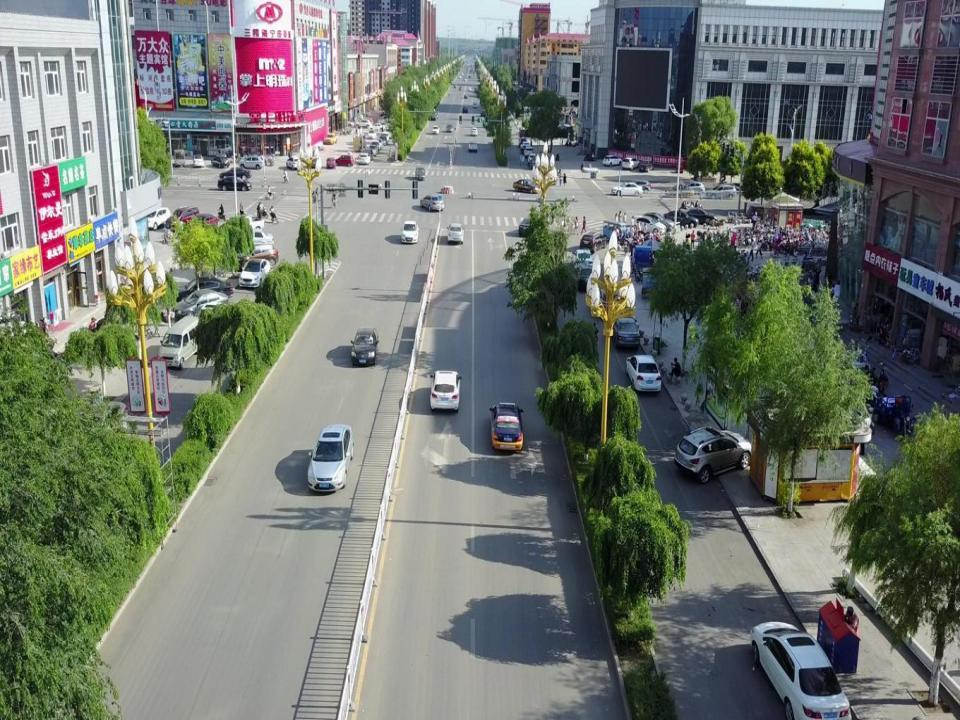car: (747, 621, 855, 720), (674, 425, 755, 481), (307, 423, 354, 492), (158, 316, 205, 369), (165, 289, 229, 324), (170, 276, 233, 308), (487, 403, 526, 452), (624, 354, 661, 393), (431, 367, 460, 411), (350, 327, 380, 368), (234, 244, 280, 270), (238, 260, 272, 289), (164, 205, 201, 230), (611, 314, 639, 347), (230, 230, 272, 250), (638, 212, 674, 232), (630, 216, 666, 236), (598, 286, 620, 316), (187, 213, 219, 233), (226, 216, 265, 232), (144, 207, 170, 230), (664, 211, 698, 228), (682, 208, 718, 224), (512, 177, 542, 195), (217, 177, 252, 192), (577, 268, 598, 293), (400, 218, 420, 244), (580, 232, 606, 252), (664, 182, 695, 198), (612, 182, 642, 197), (706, 185, 736, 200), (448, 221, 465, 247), (220, 168, 252, 180), (239, 156, 263, 170), (682, 182, 705, 194), (333, 155, 355, 167), (629, 181, 651, 193), (602, 154, 622, 166), (622, 156, 638, 170), (211, 156, 229, 168), (287, 156, 302, 170), (324, 132, 338, 146), (639, 160, 654, 173), (193, 154, 204, 166), (359, 154, 370, 166), (367, 144, 378, 156), (373, 123, 387, 132), (326, 158, 336, 170), (364, 148, 374, 160), (758, 239, 764, 259), (371, 140, 380, 152), (379, 134, 388, 146), (355, 121, 372, 127), (428, 111, 438, 121), (469, 141, 478, 152), (310, 156, 318, 168), (373, 140, 382, 150), (381, 130, 389, 141), (470, 127, 478, 137), (368, 130, 375, 140), (462, 105, 469, 114), (433, 125, 439, 135), (447, 123, 453, 133), (378, 116, 386, 123), (473, 101, 478, 108), (463, 93, 467, 98), (468, 87, 472, 92), (458, 86, 462, 90), (453, 84, 457, 88), (458, 74, 461, 78), (464, 77, 466, 80)
truck: (174, 148, 185, 166)
van: (641, 270, 694, 298), (420, 194, 444, 214)
